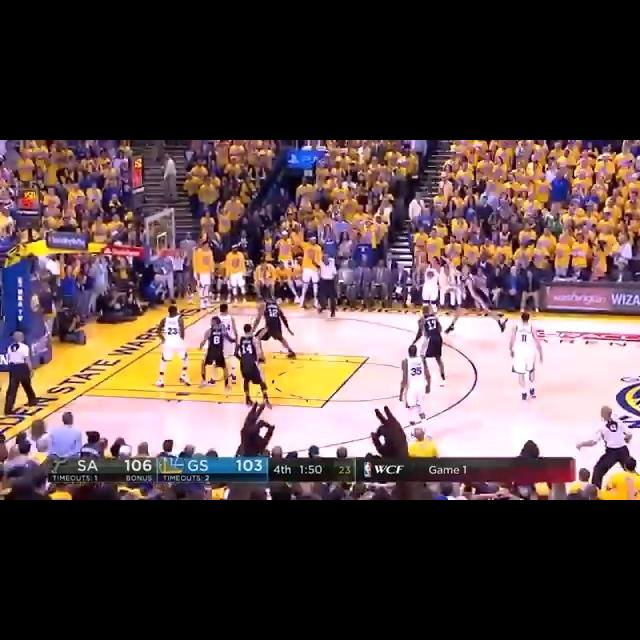hoop: (164, 246, 191, 276)
